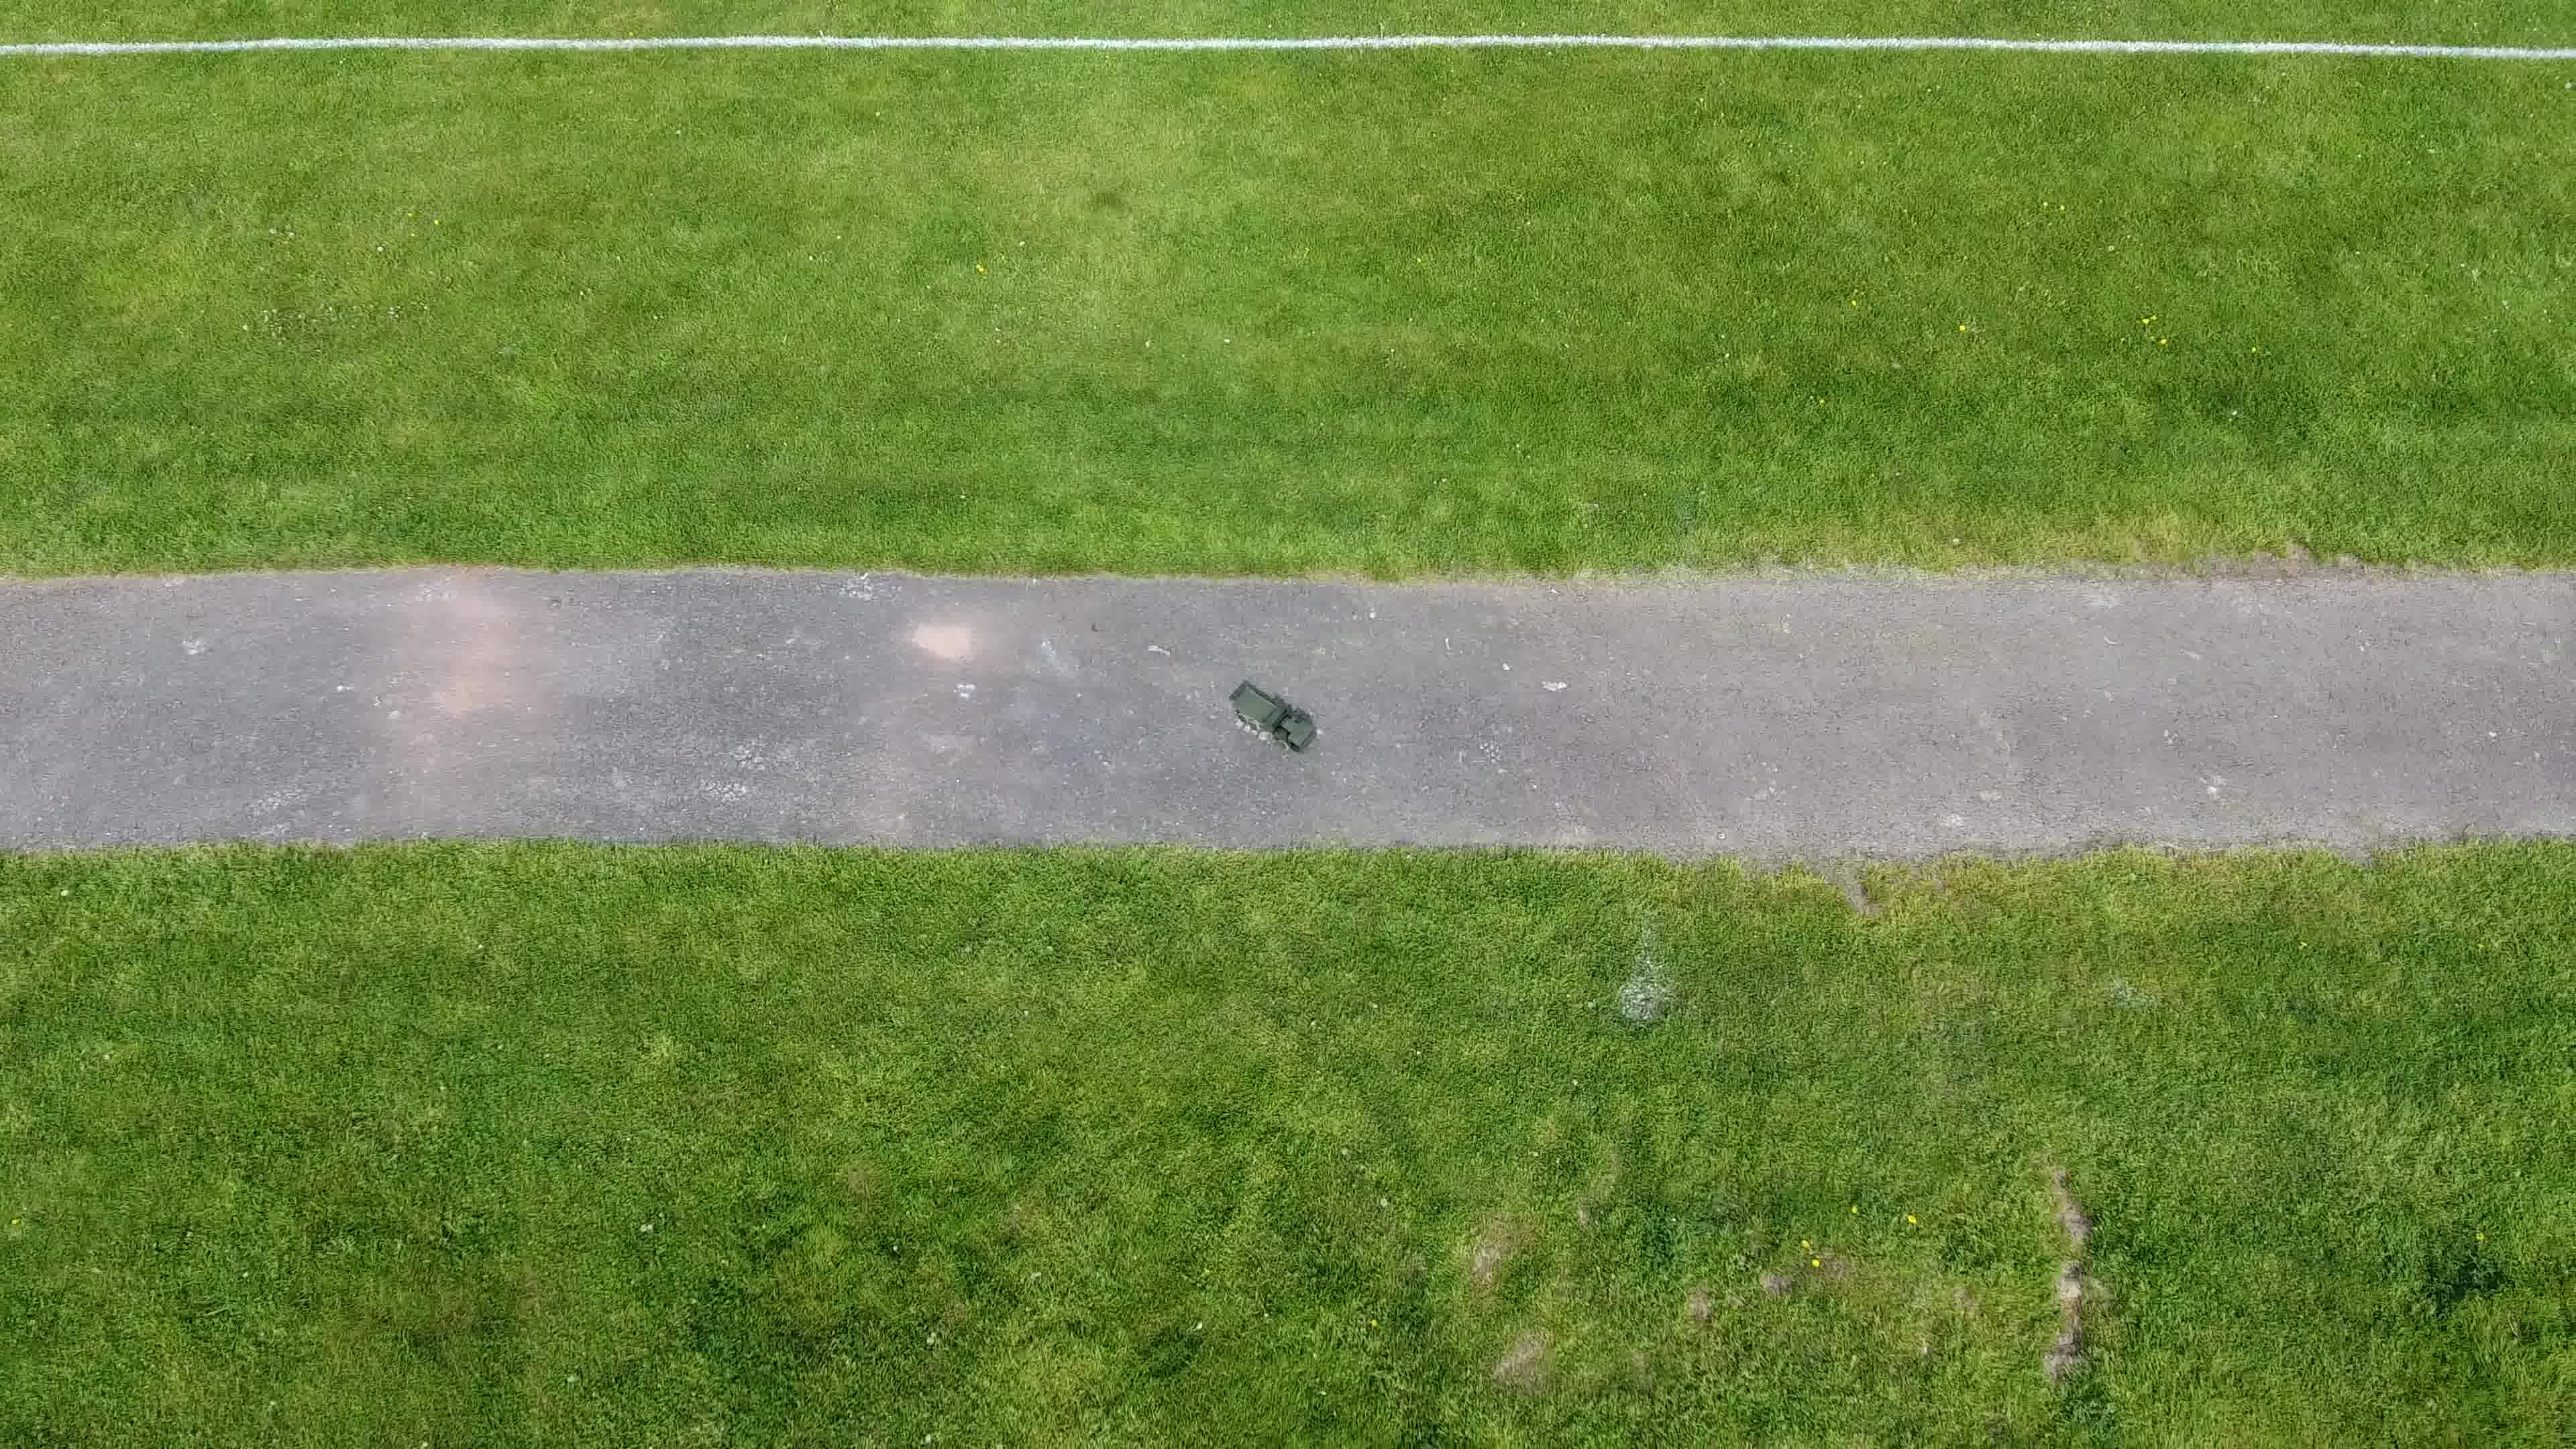transporter9: (1228, 683, 1316, 754)
